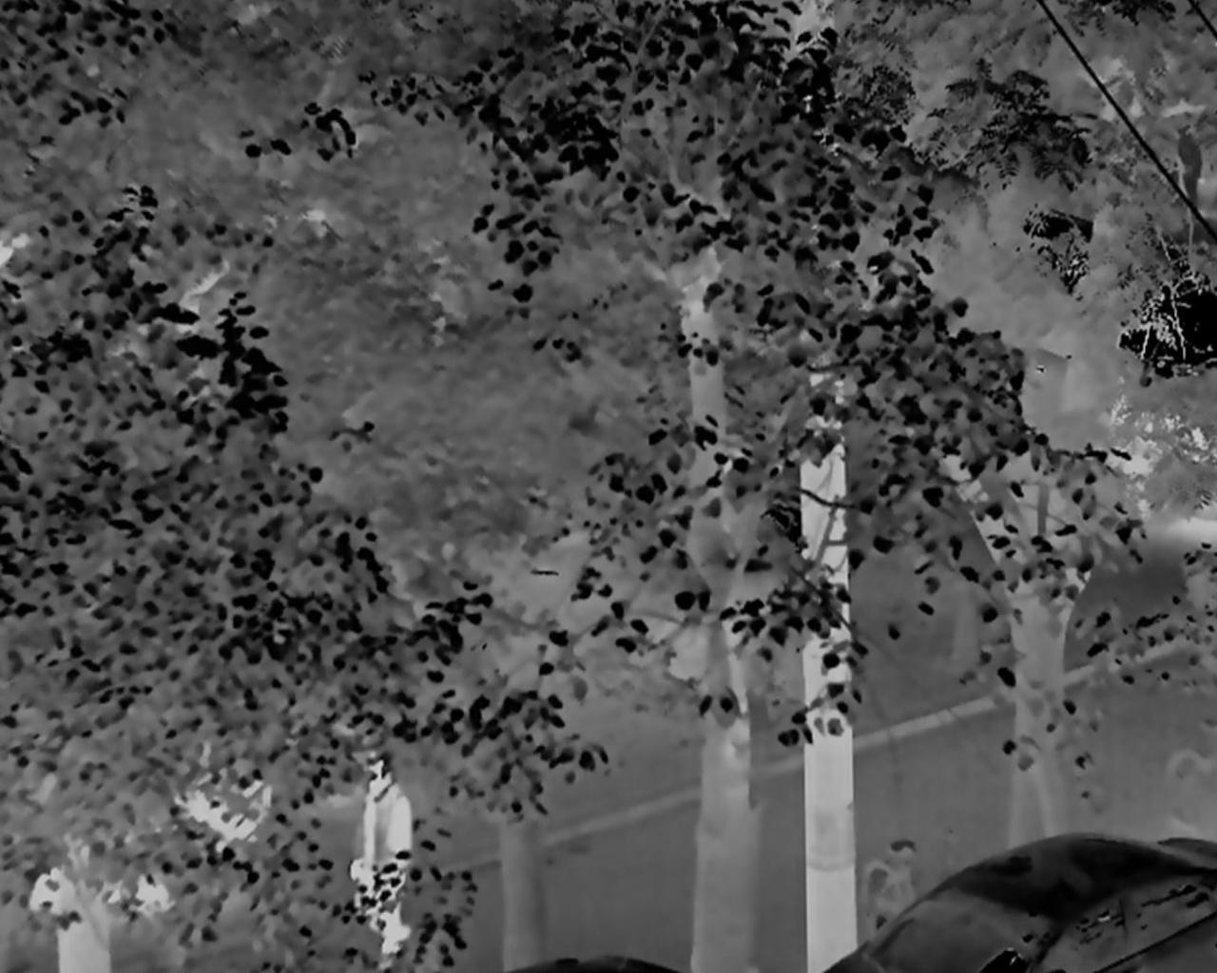person: (353, 749, 418, 973)
